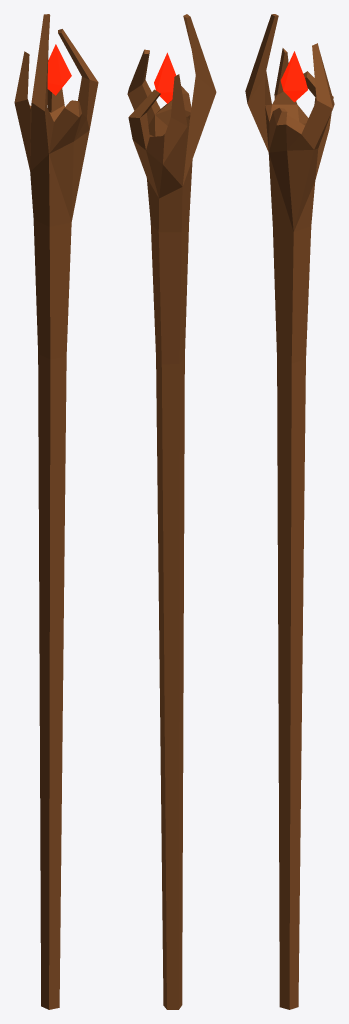
File: Low Poly Weapon Pack - by Kickin It Studios.fbx_Wizard_Staff.glb
The picture shows the model from 3 angles, left to right: view 1: azimuth 30°, elevation 25°; view 2: azimuth 150°, elevation 25°; view 3: azimuth 330°, elevation 25°; orthographic projection.
Visible parts, largest first — view 1: Wizard Staff; view 2: Wizard Staff; view 3: Wizard Staff.
Part boxes in pixels (bbox=[...]): Wizard Staff: bbox=[14, 14, 98, 1009]; Wizard Staff: bbox=[127, 14, 216, 1009]; Wizard Staff: bbox=[245, 14, 334, 1009].
Bounding box in the file's own units: 0.2148 × 2.64 × 0.1936.
